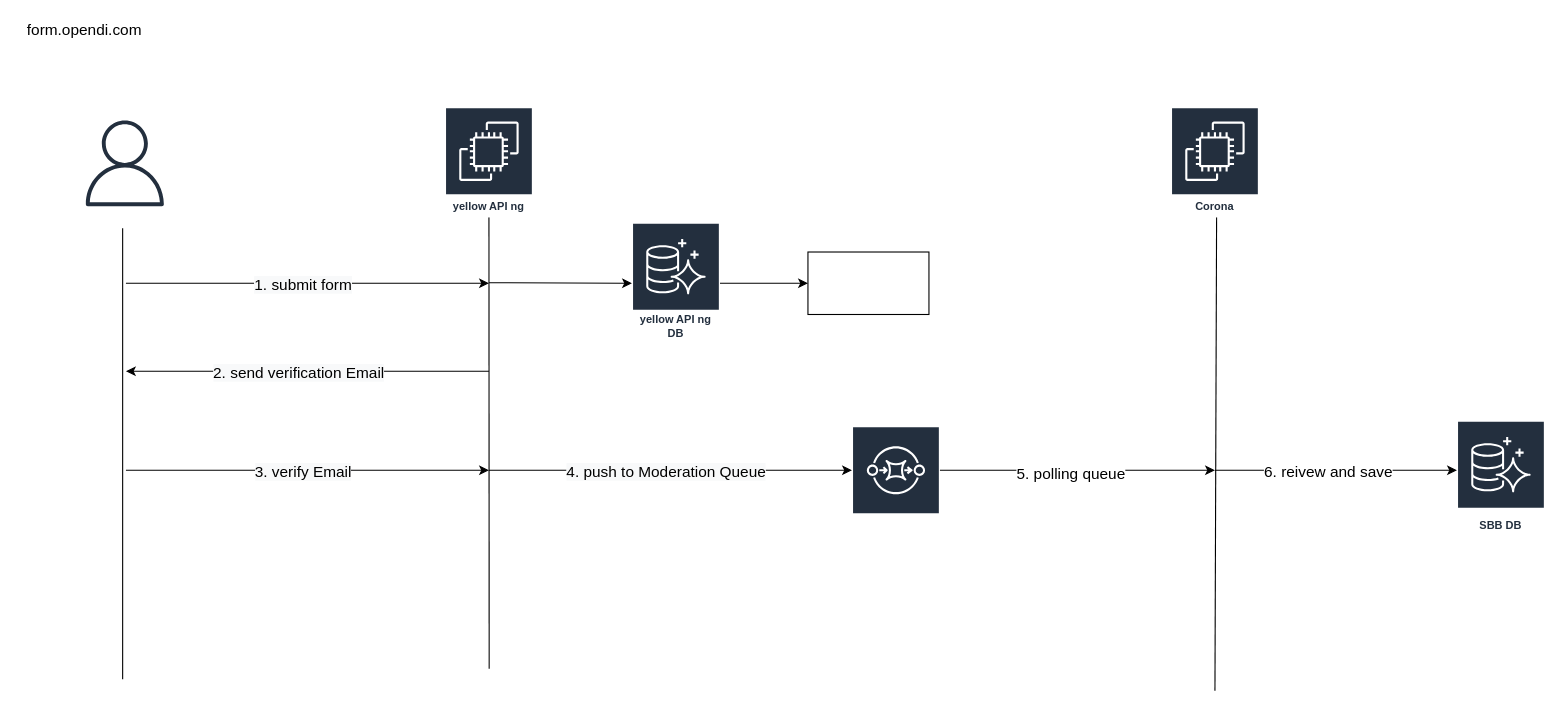
This 1565x711 diagram has some shape labels left out. Here are the shapes that lost their labels. From the top down, the centre of each, then its label:
At point (868, 282): "eintragSource".
At point (895, 480): "Amazon SQS".
